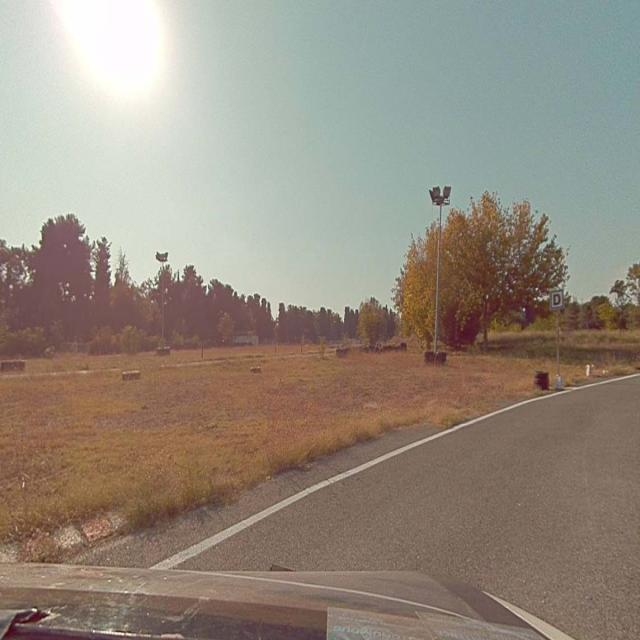durak: (551, 290, 563, 308)
